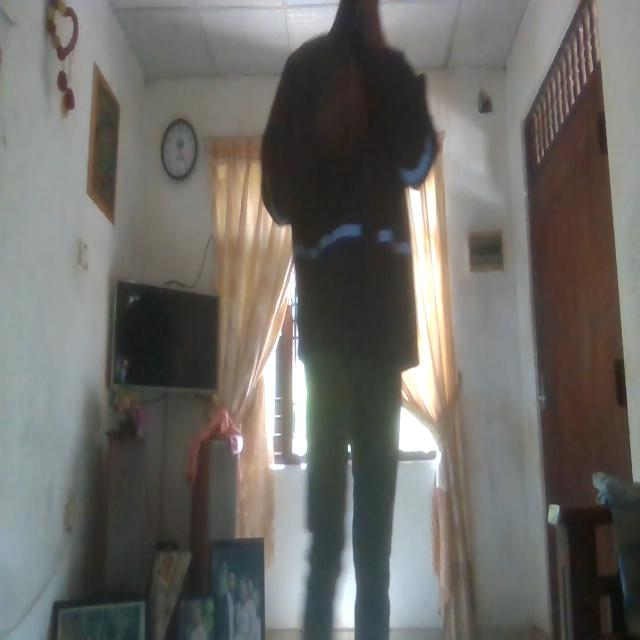Jacket_Wearer: (278, 57, 441, 344)
Person: (267, 0, 441, 640)
